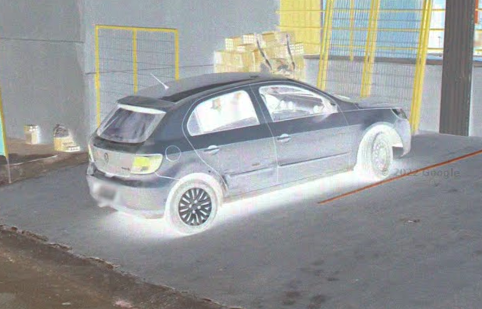car: (84, 66, 417, 238)
